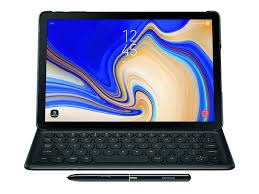keyboard: (26, 128, 230, 171)
